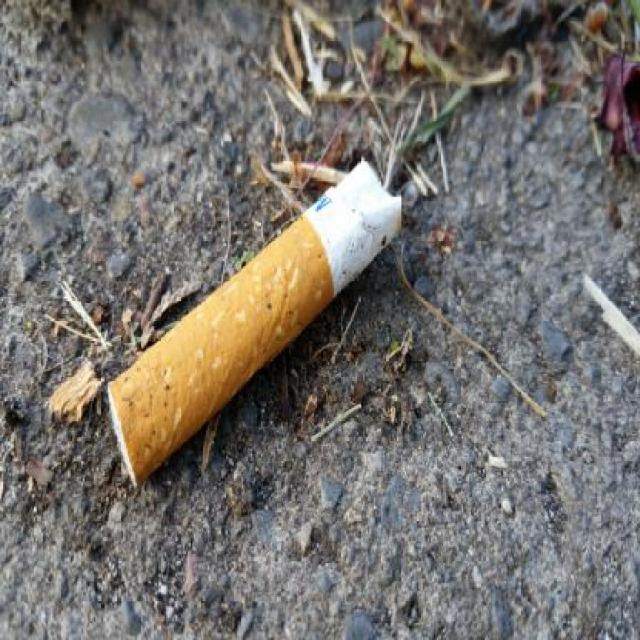cigarette: (116, 162, 421, 496)
